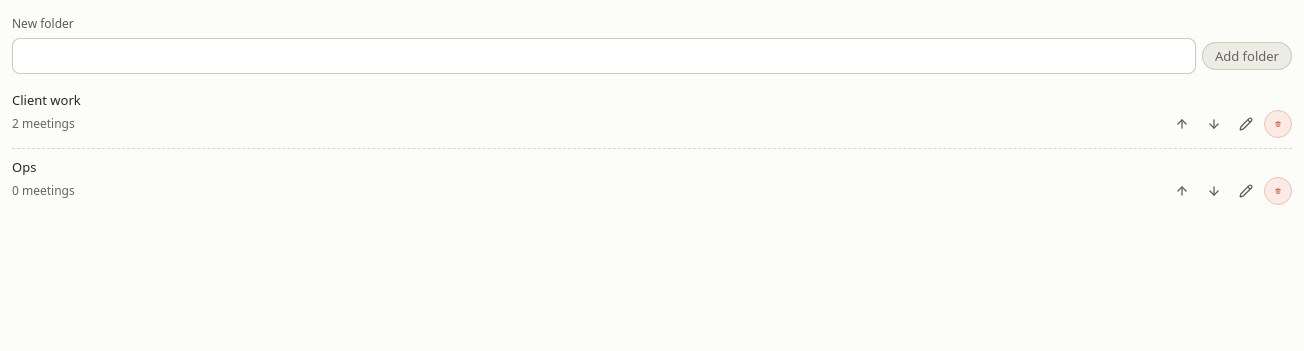
FolderManager › shows the refusal when a folder with a recording cannot be deleted
Click the button named "Delete Ops" at x=1278, y=191, box 1264,177 -> 1292,205
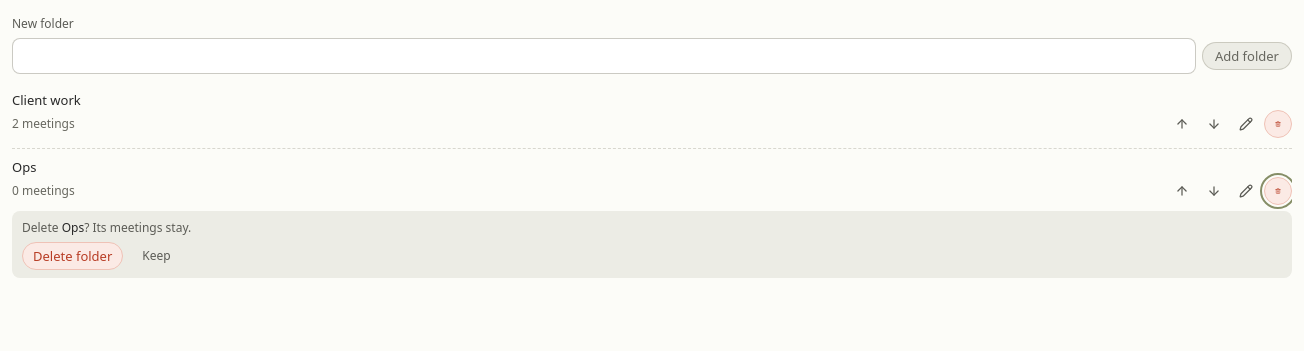
Click the button "Delete folder" at x=73, y=256, box 22,242 -> 123,270
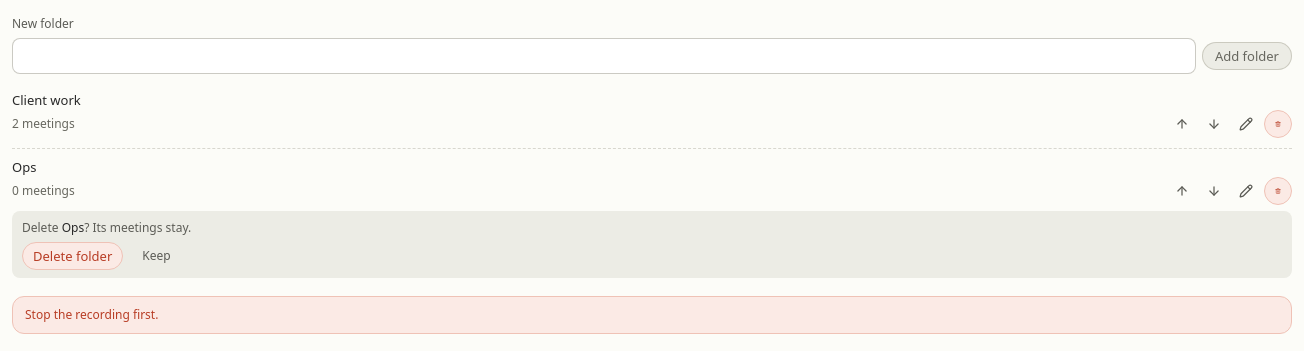
Expected: the message reads "Stop the recording first.", 25,306 -> 158,323
